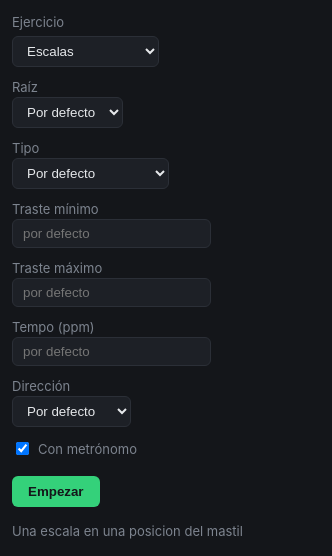
Scenario: Ejercicios › los controles salen de los parametros que declara la familia
Expected: the dropdown labelled "Raíz" is shown, [12,97,123,128]
Expected: the dropdown labelled "Dirección" is shown, [12,396,131,427]
Select "Lectura del mastil" in the dropdown labelled "Ejercicio" at (86, 52), box [12,36,159,67]
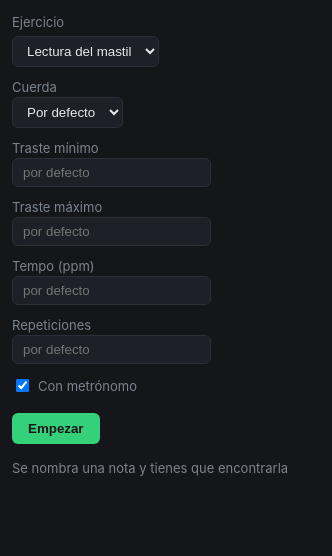
Now the number field labelled "Repeticiones" is shown, box [12,335,211,364]
Now the label labelled "Raíz" is gone
Now the label labelled "Dirección" is gone
